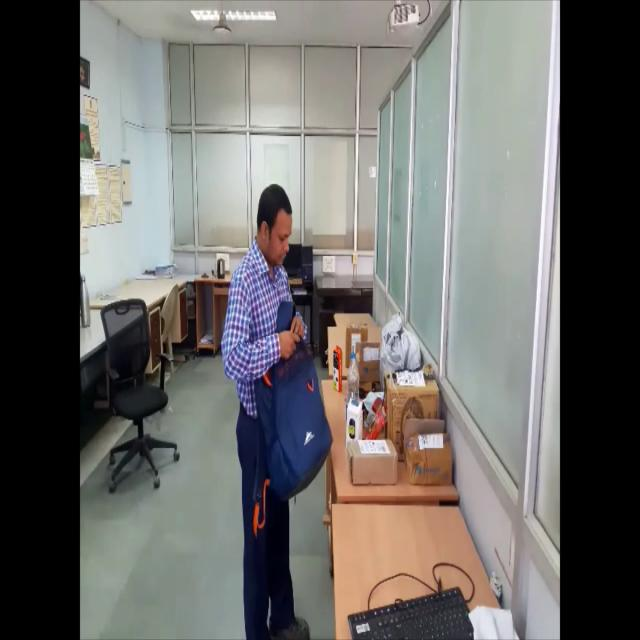shoplifting: (218, 185, 333, 640)
